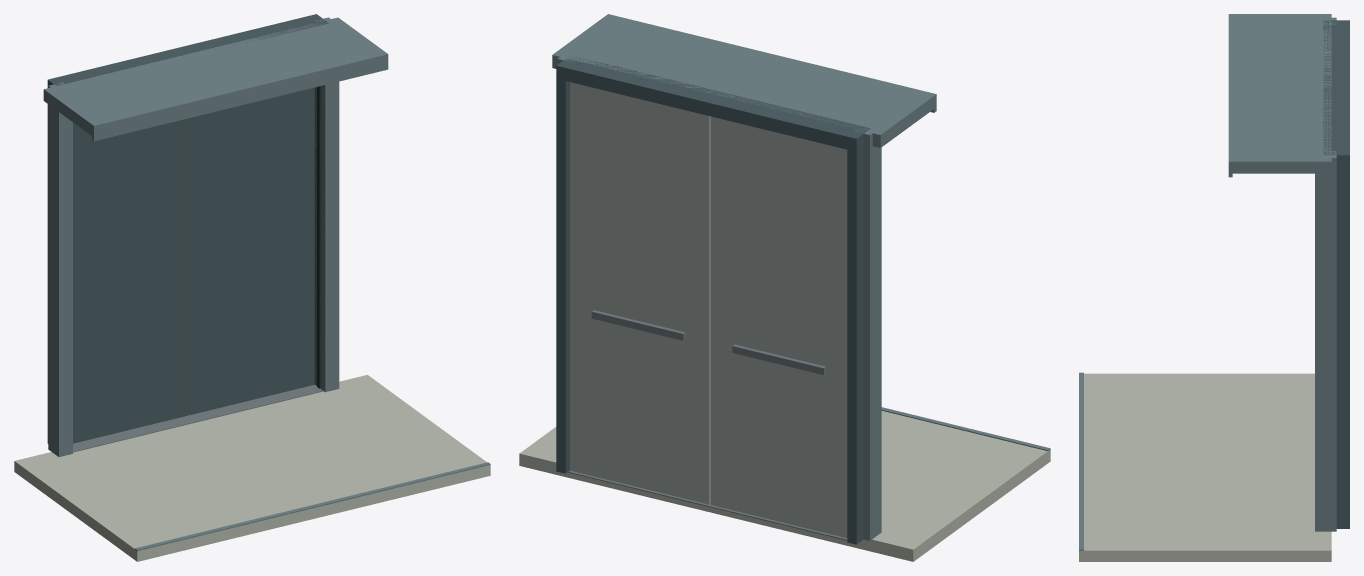
3 renders of one model, left to right at view 1: azimuth 30°, elevation 25°; view 2: azimuth 150°, elevation 25°; view 3: azimuth 270°, elevation 25°, orthographic. The views are drawn at different scales.
Visible parts, largest first — view 1: EN-B_ExteriorTransition, EN-B_Leaf_02, EN-B_Leaf_01, EN-B_Canopy, EN-B_FoldedPortal_L, EN-B_FoldedPortal_R, EN-B_Head, EN-B_Threshold, EN-B_DrainReturn, EN-B_DripFold, EN-B_SealR, EN-B_FrameR (+1 smaller); view 2: EN-B_Leaf_02, EN-B_Leaf_01, EN-B_Canopy, EN-B_ExteriorTransition, EN-B_Head, EN-B_FoldedPortal_L, EN-B_FrameL, EN-B_FrameR, EN-B_Release_02, EN-B_Release_01, EN-B_Threshold, EN-B_DrainReturn; view 3: EN-B_ExteriorTransition, EN-B_Canopy, EN-B_FoldedPortal_R, EN-B_FrameR, EN-B_Head, EN-B_DrainReturn.
Boxes of the visible parts, x1=… form: EN-B_ExteriorTransition: x1=14, y1=375, x2=490, y2=561; EN-B_Leaf_02: x1=188, y1=87, x2=314, y2=414; EN-B_Leaf_01: x1=73, y1=118, x2=188, y2=443; EN-B_Canopy: x1=43, y1=17, x2=388, y2=137; EN-B_FoldedPortal_L: x1=48, y1=82, x2=72, y2=456; EN-B_FoldedPortal_R: x1=314, y1=17, x2=339, y2=392; EN-B_Head: x1=47, y1=14, x2=329, y2=87; EN-B_Threshold: x1=73, y1=384, x2=323, y2=452; EN-B_DrainReturn: x1=135, y1=462, x2=490, y2=551; EN-B_DripFold: x1=92, y1=66, x2=388, y2=141; EN-B_SealR: x1=317, y1=86, x2=320, y2=388; EN-B_FrameR: x1=314, y1=86, x2=321, y2=387; EN-B_Leaf_02: x1=570, y1=82, x2=710, y2=504; EN-B_Leaf_01: x1=710, y1=116, x2=847, y2=537; EN-B_Canopy: x1=552, y1=14, x2=936, y2=147; EN-B_ExteriorTransition: x1=519, y1=411, x2=1050, y2=561; EN-B_Head: x1=556, y1=56, x2=870, y2=151; EN-B_FoldedPortal_L: x1=855, y1=123, x2=881, y2=540; EN-B_FrameL: x1=847, y1=147, x2=863, y2=544; EN-B_FrameR: x1=556, y1=79, x2=569, y2=473; EN-B_Release_02: x1=591, y1=310, x2=685, y2=340; EN-B_Release_01: x1=732, y1=344, x2=825, y2=374; EN-B_Threshold: x1=568, y1=470, x2=847, y2=540; EN-B_DrainReturn: x1=881, y1=407, x2=1050, y2=450; EN-B_ExteriorTransition: x1=1079, y1=373, x2=1331, y2=561; EN-B_Canopy: x1=1228, y1=14, x2=1331, y2=173; EN-B_FoldedPortal_R: x1=1315, y1=151, x2=1336, y2=531; EN-B_FrameR: x1=1336, y1=167, x2=1349, y2=528; EN-B_Head: x1=1323, y1=20, x2=1349, y2=167; EN-B_DrainReturn: x1=1079, y1=372, x2=1083, y2=550.
Size of the model in its own units: 2.52 by 2.56 by 1.63.
